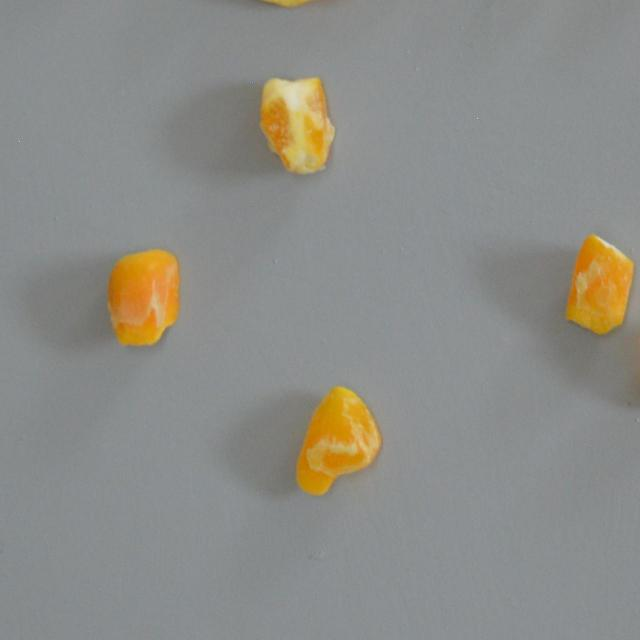estandar: (233, 0, 360, 8)
pelicula: (290, 384, 381, 498), (256, 74, 336, 178), (560, 232, 636, 338), (104, 248, 185, 346)
